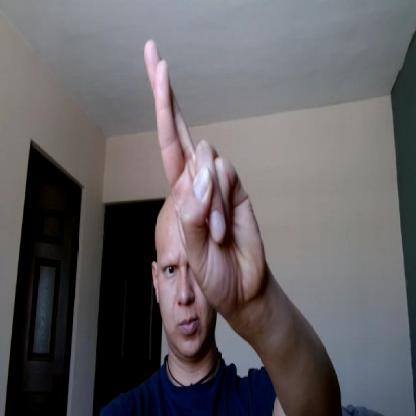R: (143, 38, 266, 312)
